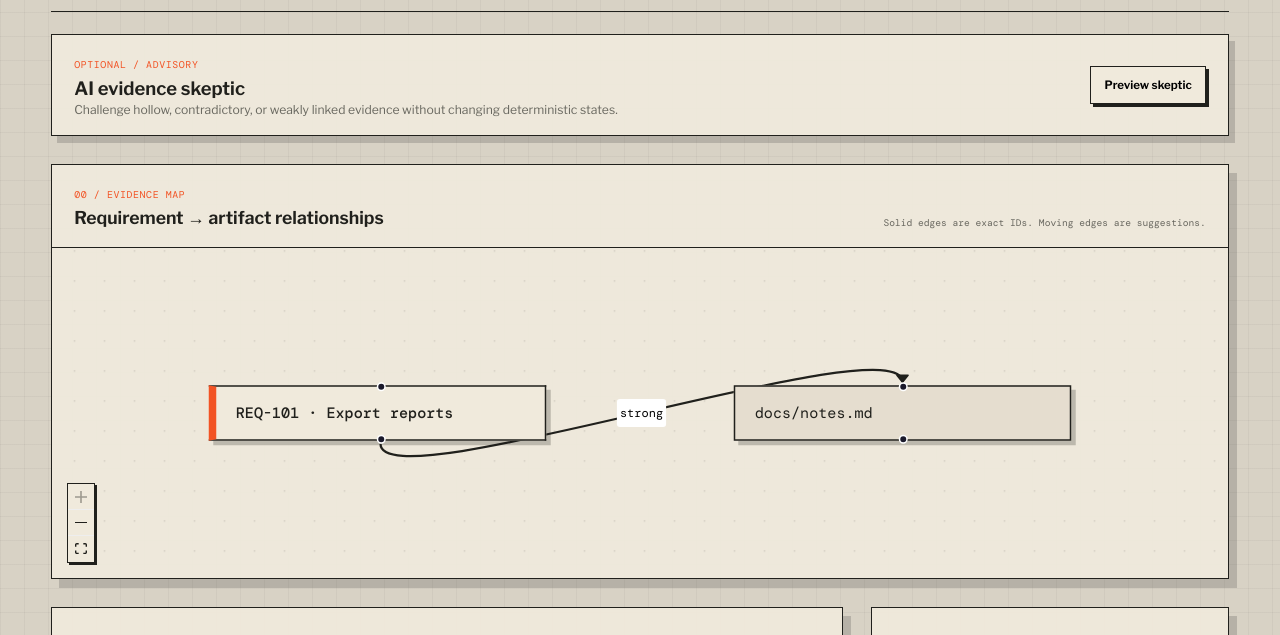
Test: review workspace advisory and export controls › disables the interpreted pass when a change has no added source lines
Step 1. Click the button "Preview skeptic" → (1148, 85), box [1090,66,1206,104]
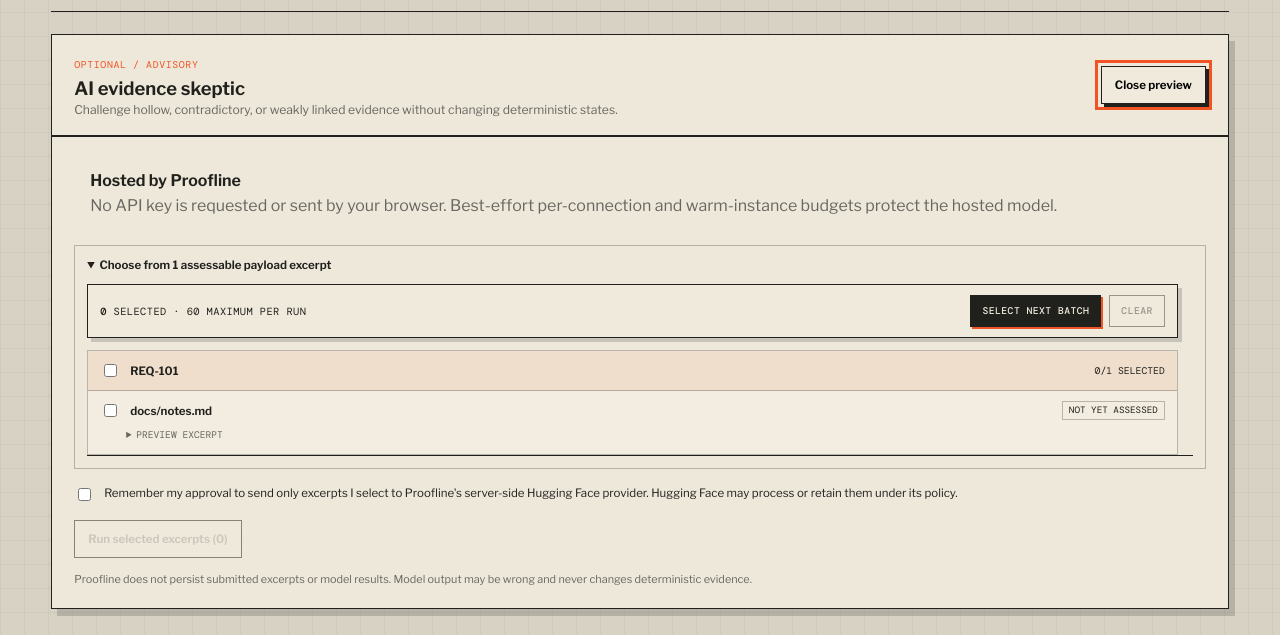
Step 2. Click the checkbox labelled "Remember my approval" → (85, 494), box [78,488,91,500]
(page scrolled)
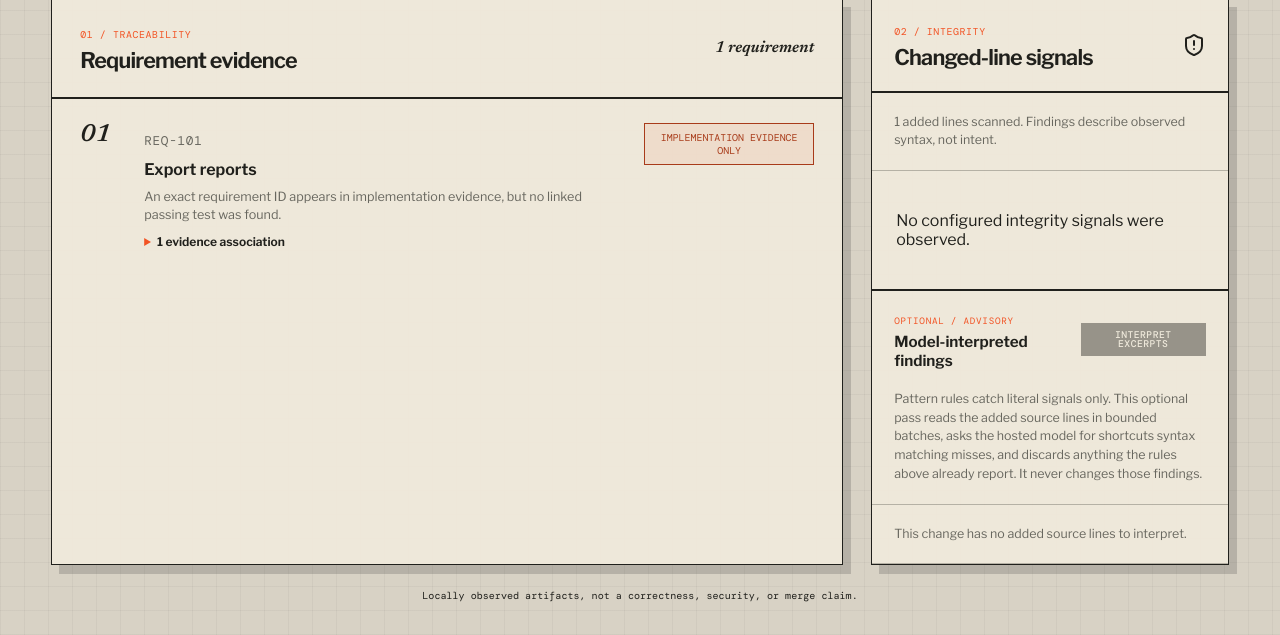
Check: the button "Interpret excerpts" is disabled, box [1081,323,1206,356]
Check: the text "This change has no added source lines to interpret." is shown, box [872,505,1228,564]
